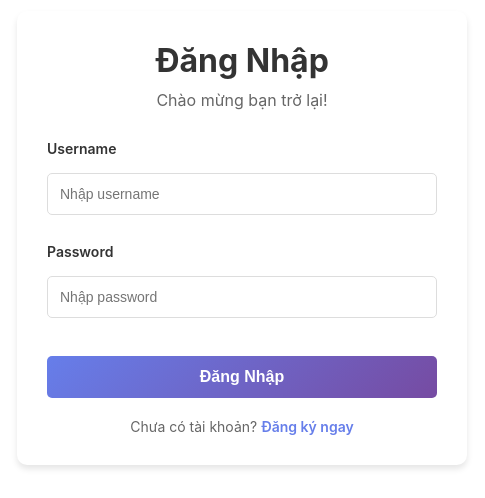
Login E2E Tests › b) Nên hiển thị lỗi validation với username không hợp lệ
This screenshot has width=485, height=498.
Type "ab" into the field with test id "username-input" at (242, 194), box x1=47 y1=173 x2=437 y2=215
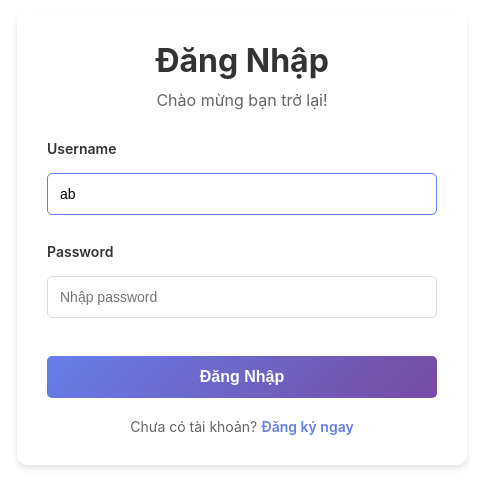
Type "Test123" into the password field with test id "password-input" at (242, 297), box x1=47 y1=276 x2=437 y2=318
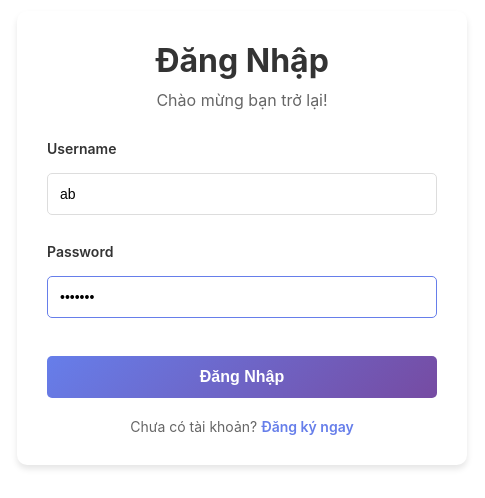
Click the button with test id "login-button" at (242, 377), box x1=47 y1=356 x2=437 y2=398
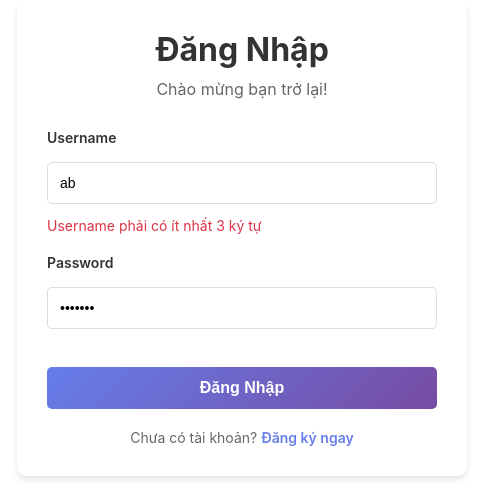
expect the text "Username phải có ít nhất 3 ký tự" is shown: met, box x1=47 y1=217 x2=262 y2=234
